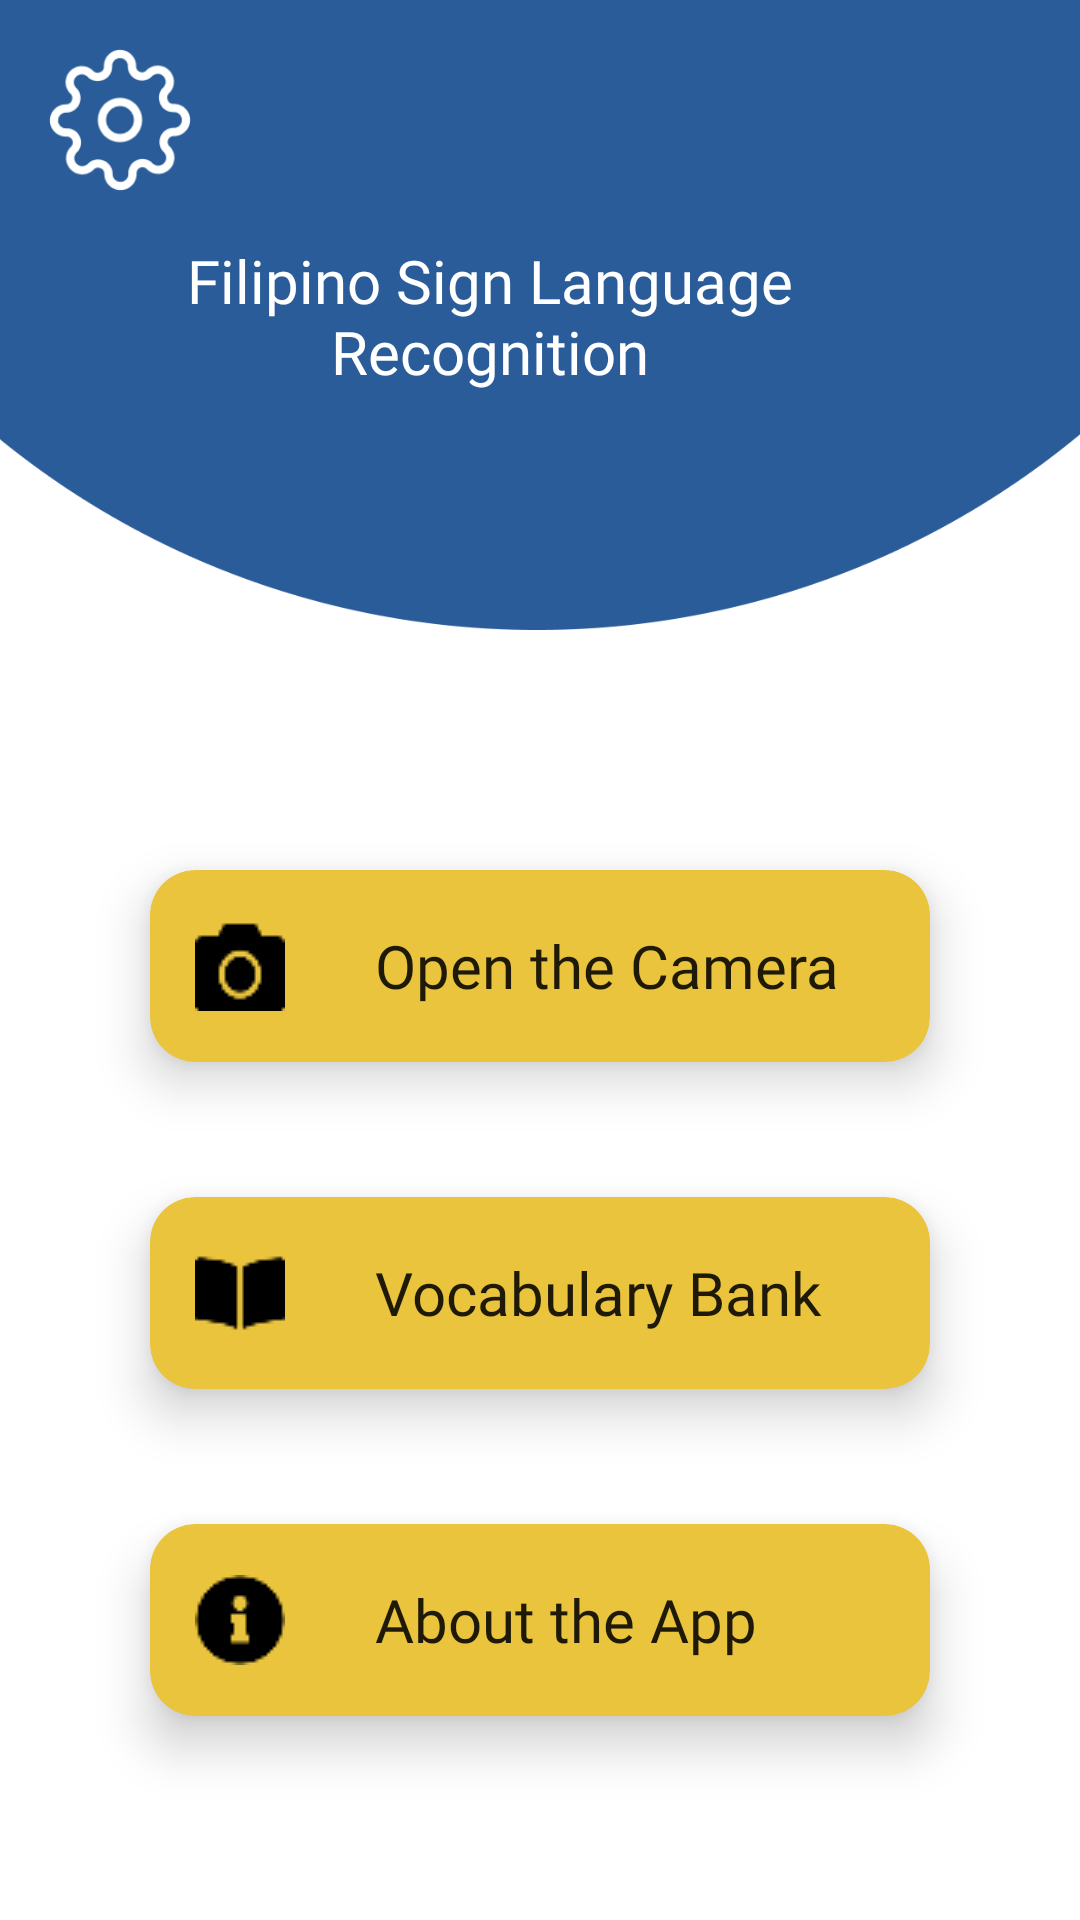

Where to tap for icons on this 1080*1920 app screen, as (x=x, y=y):
Settings: (x=120, y=120)
